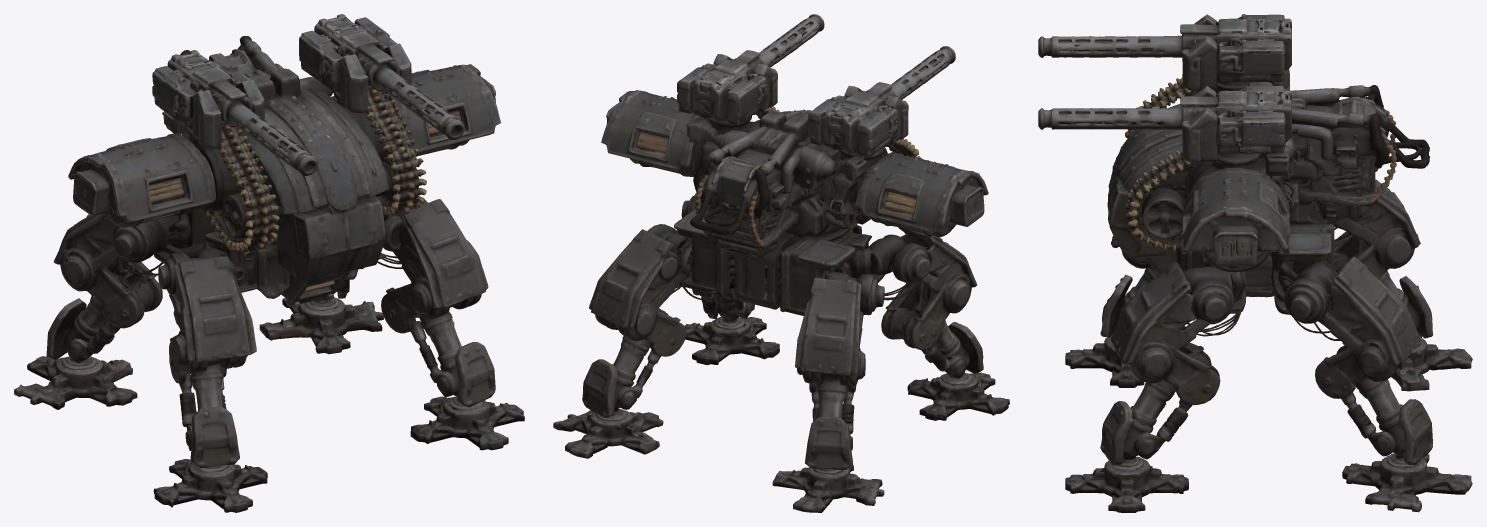
The model's file is mega.glb.
The picture shows the model from 3 angles, left to right: view 1: azimuth 30°, elevation 25°; view 2: azimuth 150°, elevation 25°; view 3: azimuth 270°, elevation 25°; orthographic projection. The views are drawn at different scales.
Parts seen in each view (by area): view 1: world; view 2: world; view 3: world.
Boxes of the visible parts, box(x1,y1,x2,y2) form: world: box(14, 14, 524, 512); world: box(553, 14, 1009, 512); world: box(1038, 14, 1472, 512).
Size of the model in its own units: 1 by 0.863 by 0.931.
1 material, 1 textured.
